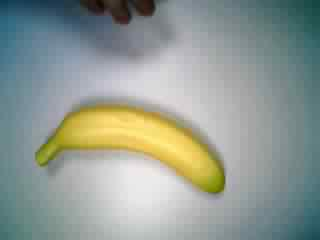banana: (29, 101, 233, 203)
